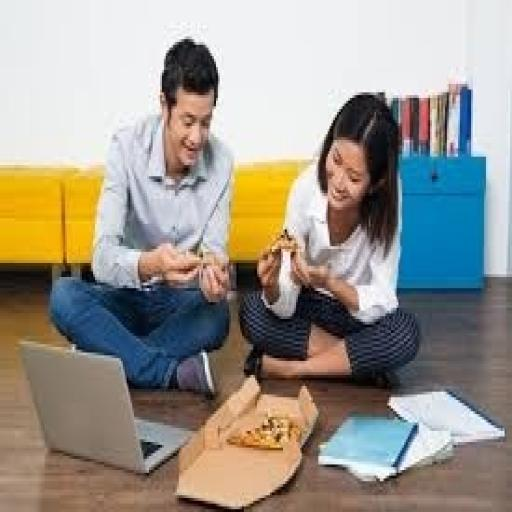eating: (46, 34, 236, 397), (236, 90, 421, 386)
